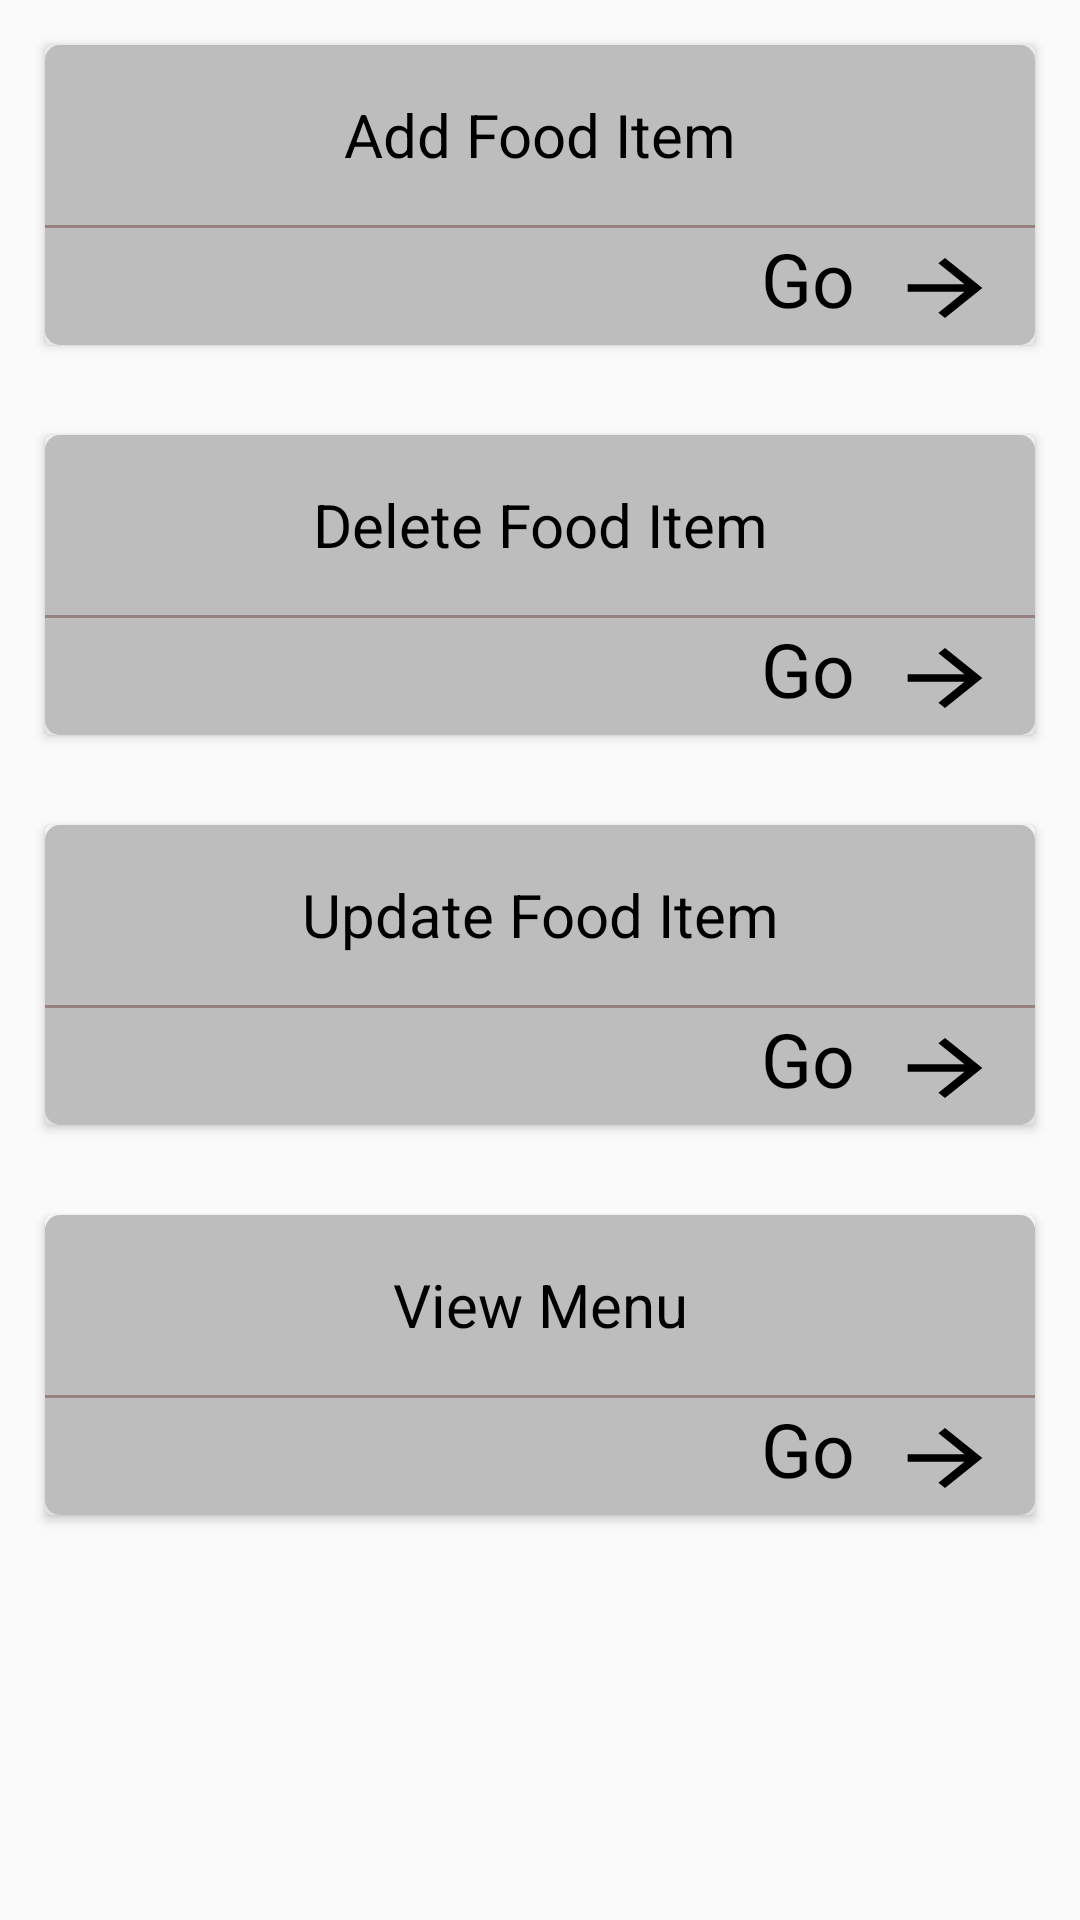

Icon click points for this 1080 × 1920 phone screenshot, format [x,y]:
arrow forward: [944,288], [944,678], [944,1068], [944,1458]
